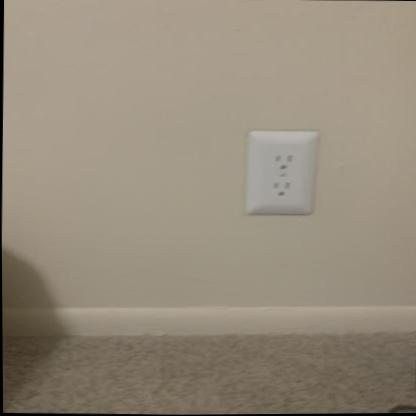OUTLET: (243, 130, 320, 215)
